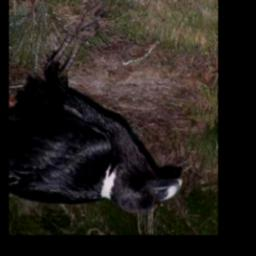Crow: (10, 0, 183, 215)
